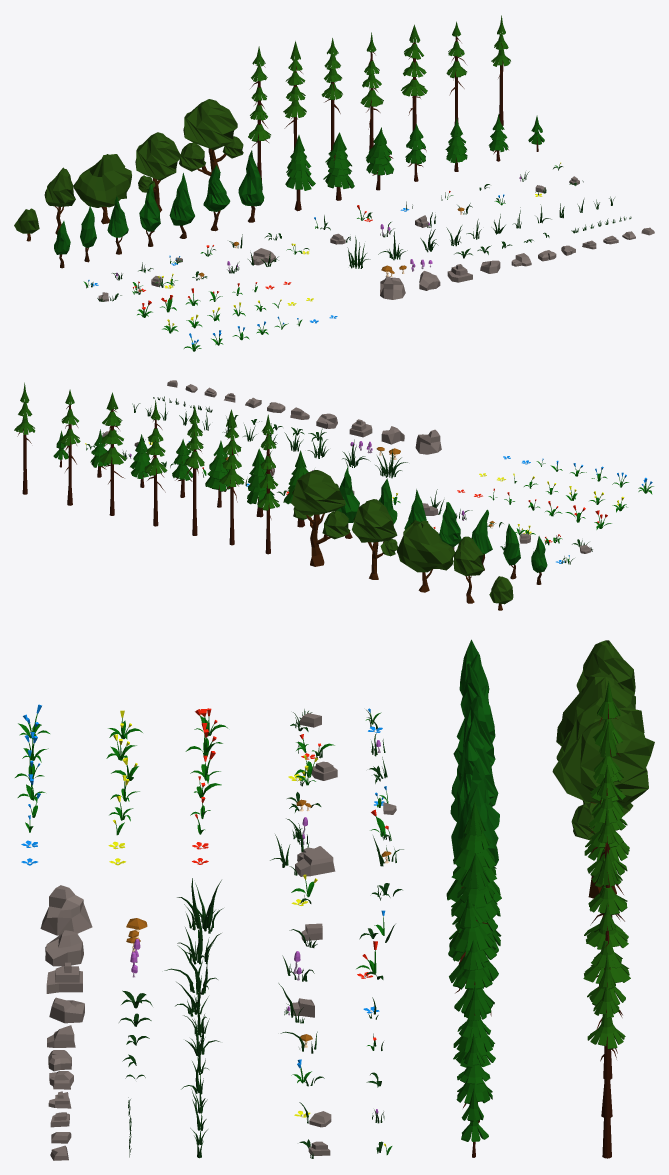
Rendered from Trees_Flowers_and_Rocks_003.fbx.
The picture shows the model from 3 angles, top to bottom: view 1: azimuth 30°, elevation 25°; view 2: azimuth 150°, elevation 25°; view 3: azimuth 270°, elevation 25°; orthographic projection. The views are drawn at different scales.
Visible parts, largest first — view 1: Tree_Type_2_5, Tree_Type_2_3, Tree_Type_2_4, Tree_Pine_7, Tree_Fir_6, Tree_Pine_3, Tree_Fir_7, Tree_Pine_6, Tree_Type_2_2, Tree_Type_1_7, Tree_Pine_4, Tree_Fir_5 (+12 smaller); view 2: Tree_Type_2_5, Tree_Type_2_3, Tree_Type_2_4, Tree_Pine_6, Tree_Pine_3, Tree_Pine_7, Tree_Type_2_2, Tree_Pine_4, Tree_Pine_5, Tree_Pine_2, Tree_Fir_6, Tree_Fir_5 (+14 smaller); view 3: Tree_Type_2_5, Tree_Pine_3, Tree_Pine_1, Tree_Fir_6, Tree_Type_2_3, Tree_Fir_7, Tree_Fir_5, Rock_11, Tree_Pine_6, Tree_Fir_3, Tree_Type_2_2, Tree_Pine_5 (+17 smaller).
Part boxes in pixels (left/top/right/bottom): Tree_Type_2_5: left=179, top=99, right=243, bottom=175; Tree_Type_2_3: left=73, top=154, right=131, bottom=224; Tree_Type_2_4: left=135, top=132, right=180, bottom=212; Tree_Pine_7: left=248, top=46, right=270, bottom=180; Tree_Fir_6: left=323, top=132, right=354, bottom=200; Tree_Pine_3: left=401, top=24, right=427, bottom=131; Tree_Fir_7: left=285, top=135, right=315, bottom=211; Tree_Pine_6: left=283, top=41, right=306, bottom=151; Tree_Type_2_2: left=44, top=167, right=75, bottom=234; Tree_Type_1_7: left=238, top=150, right=264, bottom=222; Tree_Pine_4: left=360, top=32, right=383, bottom=149; Tree_Fir_5: left=366, top=127, right=393, bottom=190; Tree_Type_2_5: left=291, top=470, right=350, bottom=566; Tree_Type_2_3: left=397, top=520, right=455, bottom=592; Tree_Type_2_4: left=352, top=499, right=398, bottom=579; Tree_Pine_6: left=219, top=409, right=244, bottom=545; Tree_Pine_3: left=99, top=392, right=126, bottom=515; Tree_Pine_7: left=257, top=414, right=279, bottom=554; Tree_Type_2_2: left=453, top=536, right=484, bottom=603; Tree_Pine_4: left=144, top=400, right=167, bottom=526; Tree_Pine_5: left=184, top=405, right=204, bottom=535; Tree_Pine_2: left=60, top=389, right=80, bottom=505; Tree_Fir_6: left=247, top=448, right=274, bottom=517; Tree_Fir_5: left=205, top=440, right=230, bottom=507; Tree_Type_2_5: left=552, top=716, right=654, bottom=898; Tree_Pine_3: left=583, top=851, right=630, bottom=1079; Tree_Pine_1: left=587, top=951, right=625, bottom=1158; Tree_Fir_6: left=448, top=853, right=501, bottom=957; Tree_Type_2_3: left=556, top=672, right=644, bottom=746; Tree_Fir_7: left=446, top=801, right=501, bottom=902; Tree_Fir_5: left=449, top=895, right=498, bottom=987; Rock_11: left=40, top=885, right=92, bottom=935; Tree_Pine_6: left=584, top=721, right=629, bottom=860; Tree_Fir_3: left=453, top=986, right=495, bottom=1067; Tree_Type_2_2: left=576, top=640, right=635, bottom=694; Tree_Pine_5: left=587, top=764, right=627, bottom=894.
Size of the model in its own units: 327 by 87.99 by 198.
